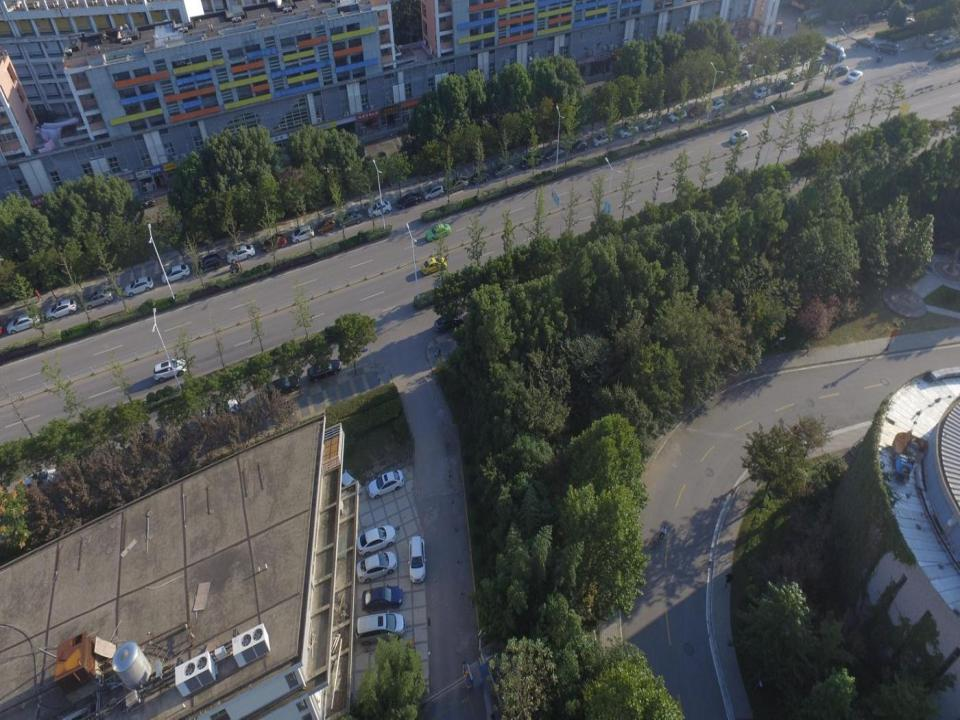car: (356, 549, 398, 583), (358, 524, 396, 556), (367, 468, 405, 499), (20, 468, 63, 492), (408, 534, 427, 582), (306, 358, 341, 384), (264, 374, 300, 398), (200, 398, 240, 419), (153, 357, 186, 382), (128, 428, 167, 448), (5, 312, 40, 334), (80, 288, 112, 310), (45, 298, 76, 320), (123, 275, 153, 297), (226, 242, 255, 263), (160, 265, 190, 284), (420, 255, 448, 275), (425, 222, 451, 242), (196, 252, 223, 271), (261, 232, 286, 252), (290, 224, 315, 244), (366, 200, 392, 219), (396, 192, 422, 210), (339, 210, 363, 229), (422, 183, 444, 200), (317, 217, 336, 236), (544, 146, 566, 162), (617, 122, 639, 138), (519, 154, 542, 169), (876, 41, 900, 55), (493, 163, 514, 178), (592, 133, 614, 146), (729, 129, 750, 142), (642, 117, 660, 132), (471, 171, 490, 185), (569, 139, 588, 153), (730, 91, 749, 105), (751, 87, 771, 100), (688, 104, 706, 118), (669, 109, 687, 122), (846, 70, 864, 83), (830, 65, 849, 77), (776, 80, 794, 92), (941, 34, 956, 47), (857, 36, 874, 47), (138, 198, 156, 208), (709, 98, 724, 110), (902, 16, 917, 26), (885, 6, 900, 16), (870, 11, 885, 20), (906, 4, 917, 12)
van: (355, 611, 405, 647), (337, 470, 363, 497), (824, 40, 846, 61), (446, 177, 469, 194), (925, 35, 942, 49), (853, 12, 868, 24)
